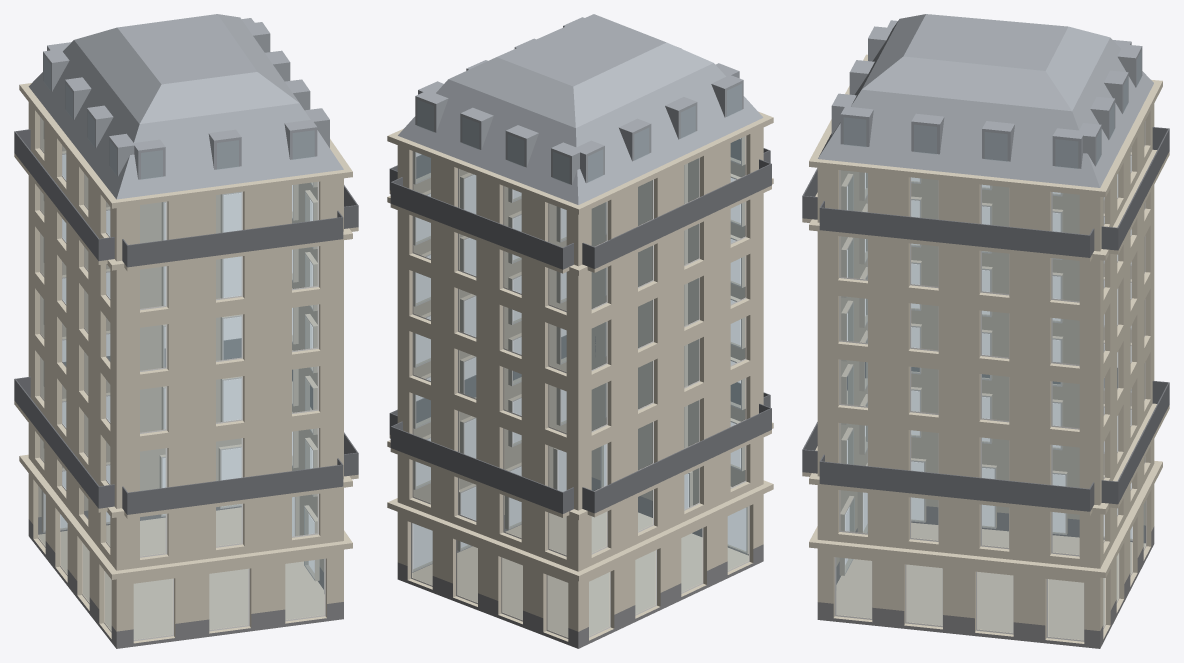
The model's file is 8_rue_pasquier.fbx.
3 renders of one model, left to right at view 1: azimuth 30°, elevation 25°; view 2: azimuth 150°, elevation 25°; view 3: azimuth 270°, elevation 25°, orthographic. The views are drawn at different scales.
Visible parts, largest first — view 1: 8 rue Pasquier 75008 Paris; view 2: 8 rue Pasquier 75008 Paris; view 3: 8 rue Pasquier 75008 Paris.
Boxes of the visible parts, x1,y1,x2,y2 form: 8 rue Pasquier 75008 Paris: (14, 14, 358, 648); 8 rue Pasquier 75008 Paris: (387, 14, 773, 648); 8 rue Pasquier 75008 Paris: (802, 14, 1169, 648).
Bounding box in the file's own units: 1375 × 2430 × 1496.
